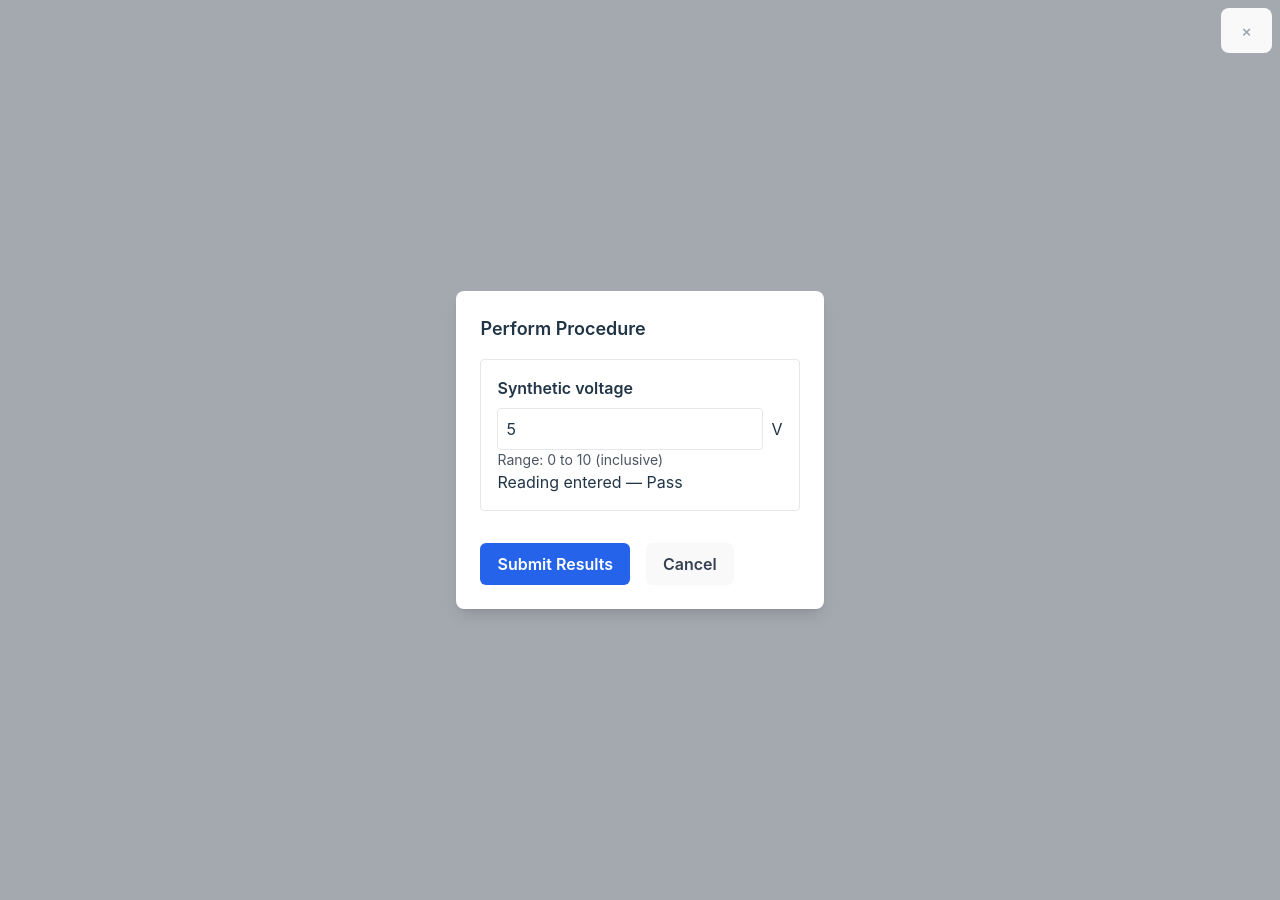
Test: server rejection retains entered reading and keeps modal open
Click the button "Submit Results".
click(555, 564)  # box [480, 543, 630, 585]
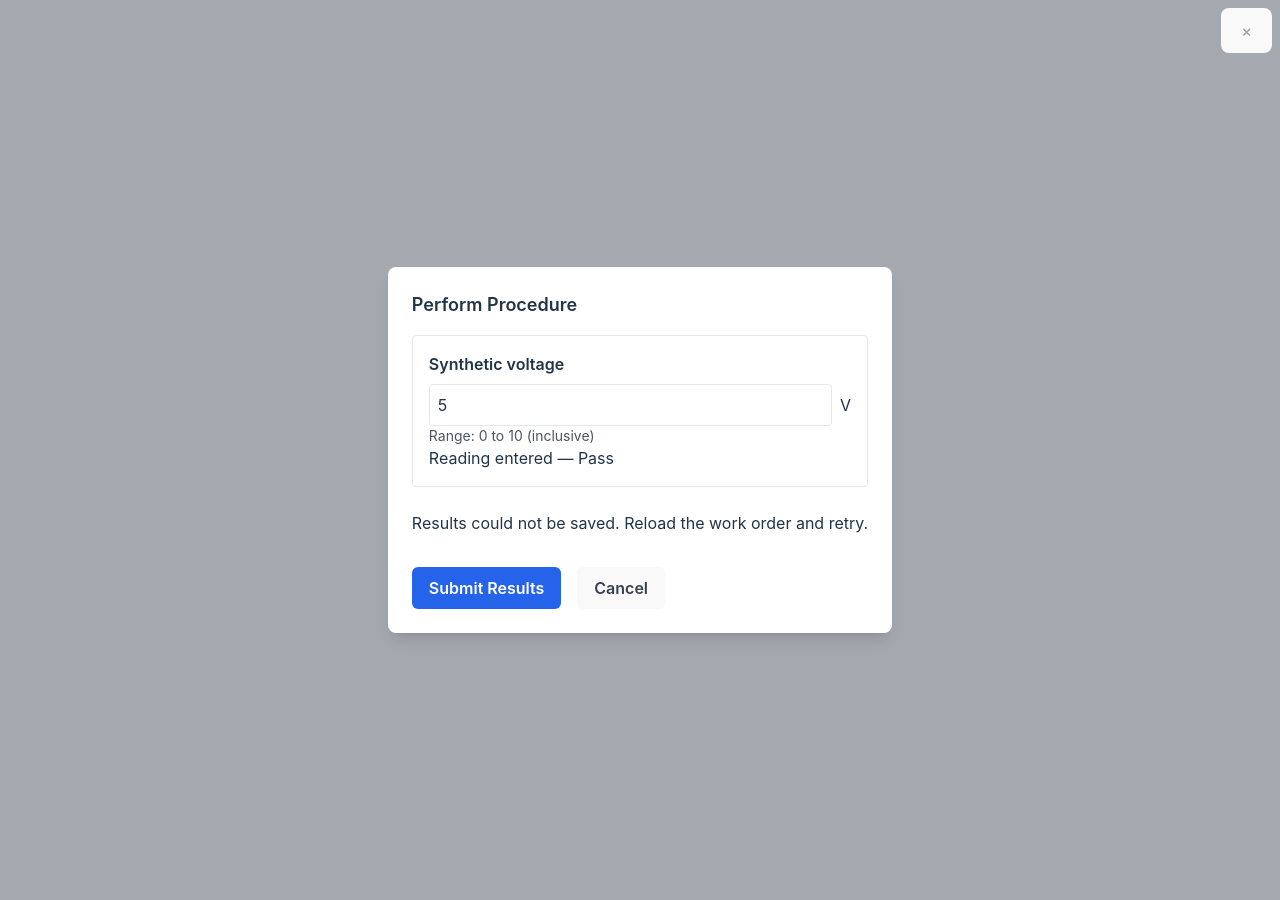
Expected: the number field labelled "Synthetic voltage" holds "5", [429, 384, 832, 426]
Result: the message "Results could not be saved. Reload the work order and retry." is shown at [412, 511, 868, 535]
